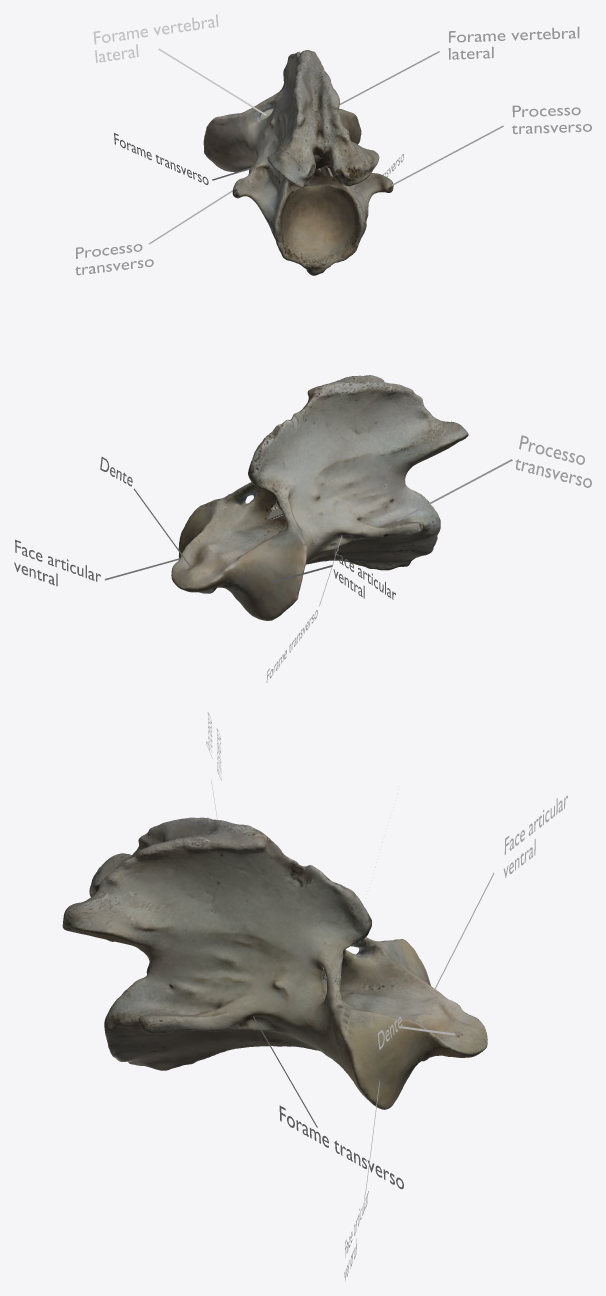
Rendered from axis.glb.
3 renders of one model, top to bottom at view 1: azimuth 30°, elevation 25°; view 2: azimuth 150°, elevation 25°; view 3: azimuth 270°, elevation 25°, orthographic. The views are drawn at different scales.
Visible parts, largest first — view 1: 3DModel, Texto.004, Texto.011, Texto.017, Texto.003, Texto.002; view 2: 3DModel, Texto.007, Texto.006, Texto.013; view 3: 3DModel, Texto.015.
Boxes of the visible parts, x1,y1,x2,y2 form: 3DModel: [203, 50, 393, 275]; Texto.004: [93, 14, 218, 62]; Texto.011: [448, 26, 579, 59]; Texto.017: [512, 105, 591, 134]; Texto.003: [75, 244, 153, 275]; Texto.002: [114, 133, 208, 184]; 3DModel: [171, 375, 468, 620]; Texto.007: [515, 435, 591, 487]; Texto.006: [14, 539, 100, 586]; Texto.013: [333, 547, 395, 599]; 3DModel: [62, 817, 487, 1109]; Texto.015: [279, 1105, 403, 1189].
Size of the model in its own units: 3.17 by 1.37 by 2.38.
1 material, 1 textured.
